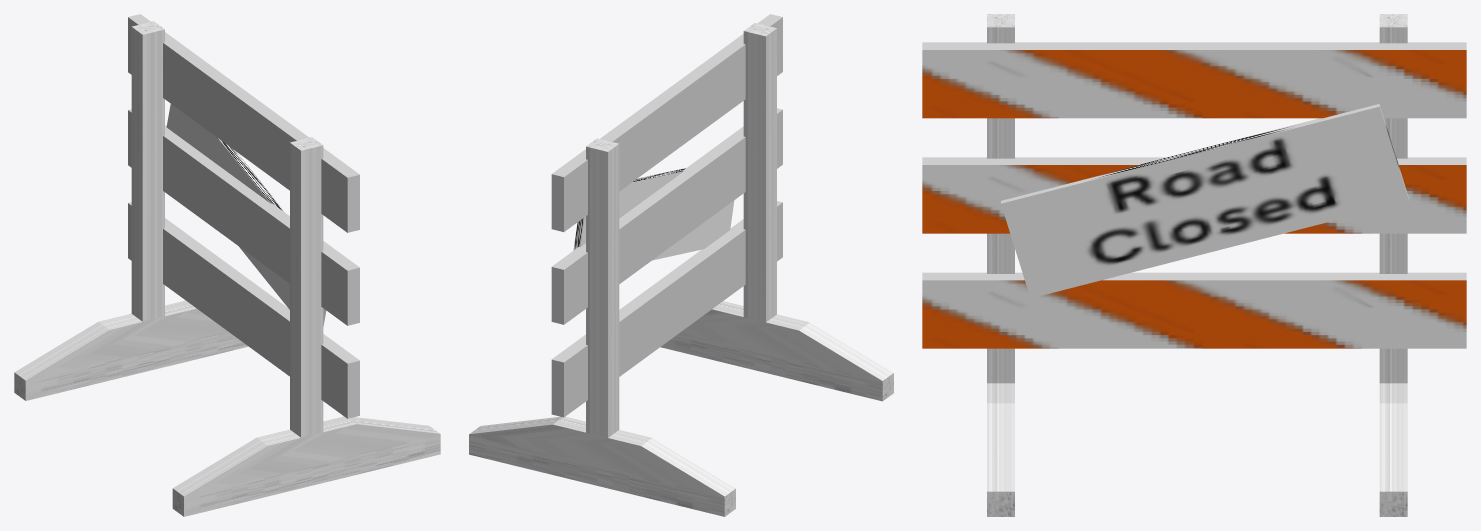
The model's file is Road Block.fbx.
The picture shows the model from 3 angles, left to right: view 1: azimuth 30°, elevation 25°; view 2: azimuth 150°, elevation 25°; view 3: azimuth 270°, elevation 25°; orthographic projection. The views are drawn at different scales.
Visible parts, largest first — view 1: pCube12, pCube13, pCube17, pCube19, pCube18, pCube21; view 2: pCube13, pCube12, pCube17, pCube19, pCube18, pCube21; view 3: pCube17, pCube19, pCube21, pCube18, pCube12, pCube13.
Part boxes in pixels (x1,y1,x2,y2): pCube12: (172, 137, 440, 516); pCube13: (14, 21, 248, 400); pCube17: (128, 14, 359, 232); pCube19: (128, 202, 359, 418); pCube18: (128, 109, 359, 325); pCube21: (166, 104, 326, 326); pCube13: (469, 138, 735, 516); pCube12: (660, 23, 893, 401); pCube17: (551, 14, 782, 231); pCube19: (551, 201, 782, 417); pCube18: (551, 108, 782, 324); pCube21: (573, 168, 734, 260); pCube17: (922, 42, 1466, 118); pCube19: (922, 272, 1466, 348); pCube21: (1001, 104, 1408, 298); pCube18: (922, 157, 1466, 233); pCube12: (987, 14, 1014, 516); pCube13: (1379, 14, 1407, 516).
Size of the model in its own units: 66.41 by 83.53 by 98.45.
